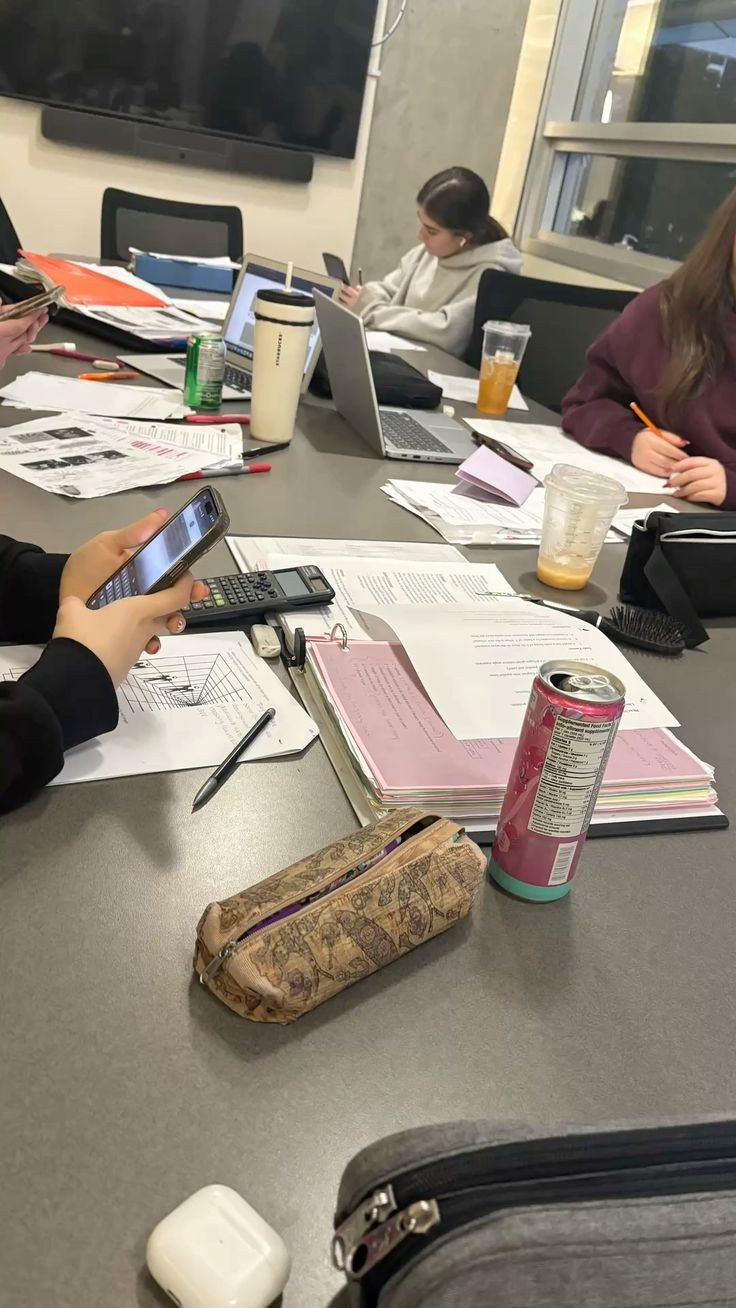cell phone: (84, 484, 231, 611), (0, 280, 72, 329)
laptop: (116, 252, 344, 401), (310, 286, 479, 464)
